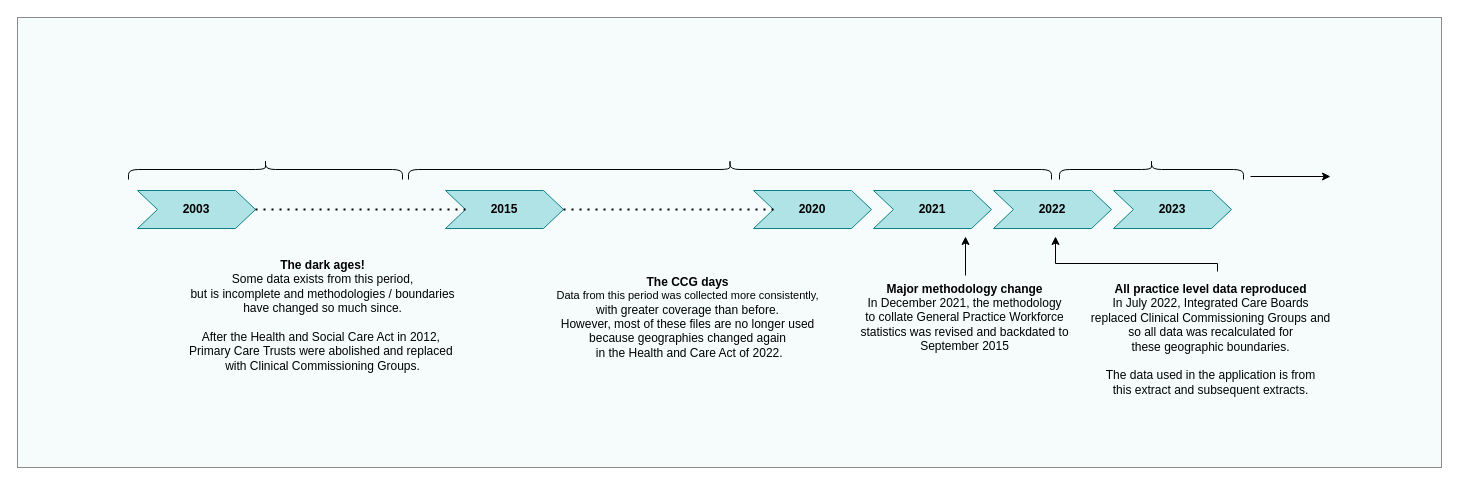
Image size: 1459x485. Some labels were removed from this diagram. The shapes that lost their labels are listed below. From the top down, each one's centre as x and y in pixels, then its label:
At (x=265, y=169): "Primary Care Trusts".
At (x=730, y=169): "Clinical Commissioning Groups (CCGs)".
At (x=1151, y=169): "Integrated Care Boards".
